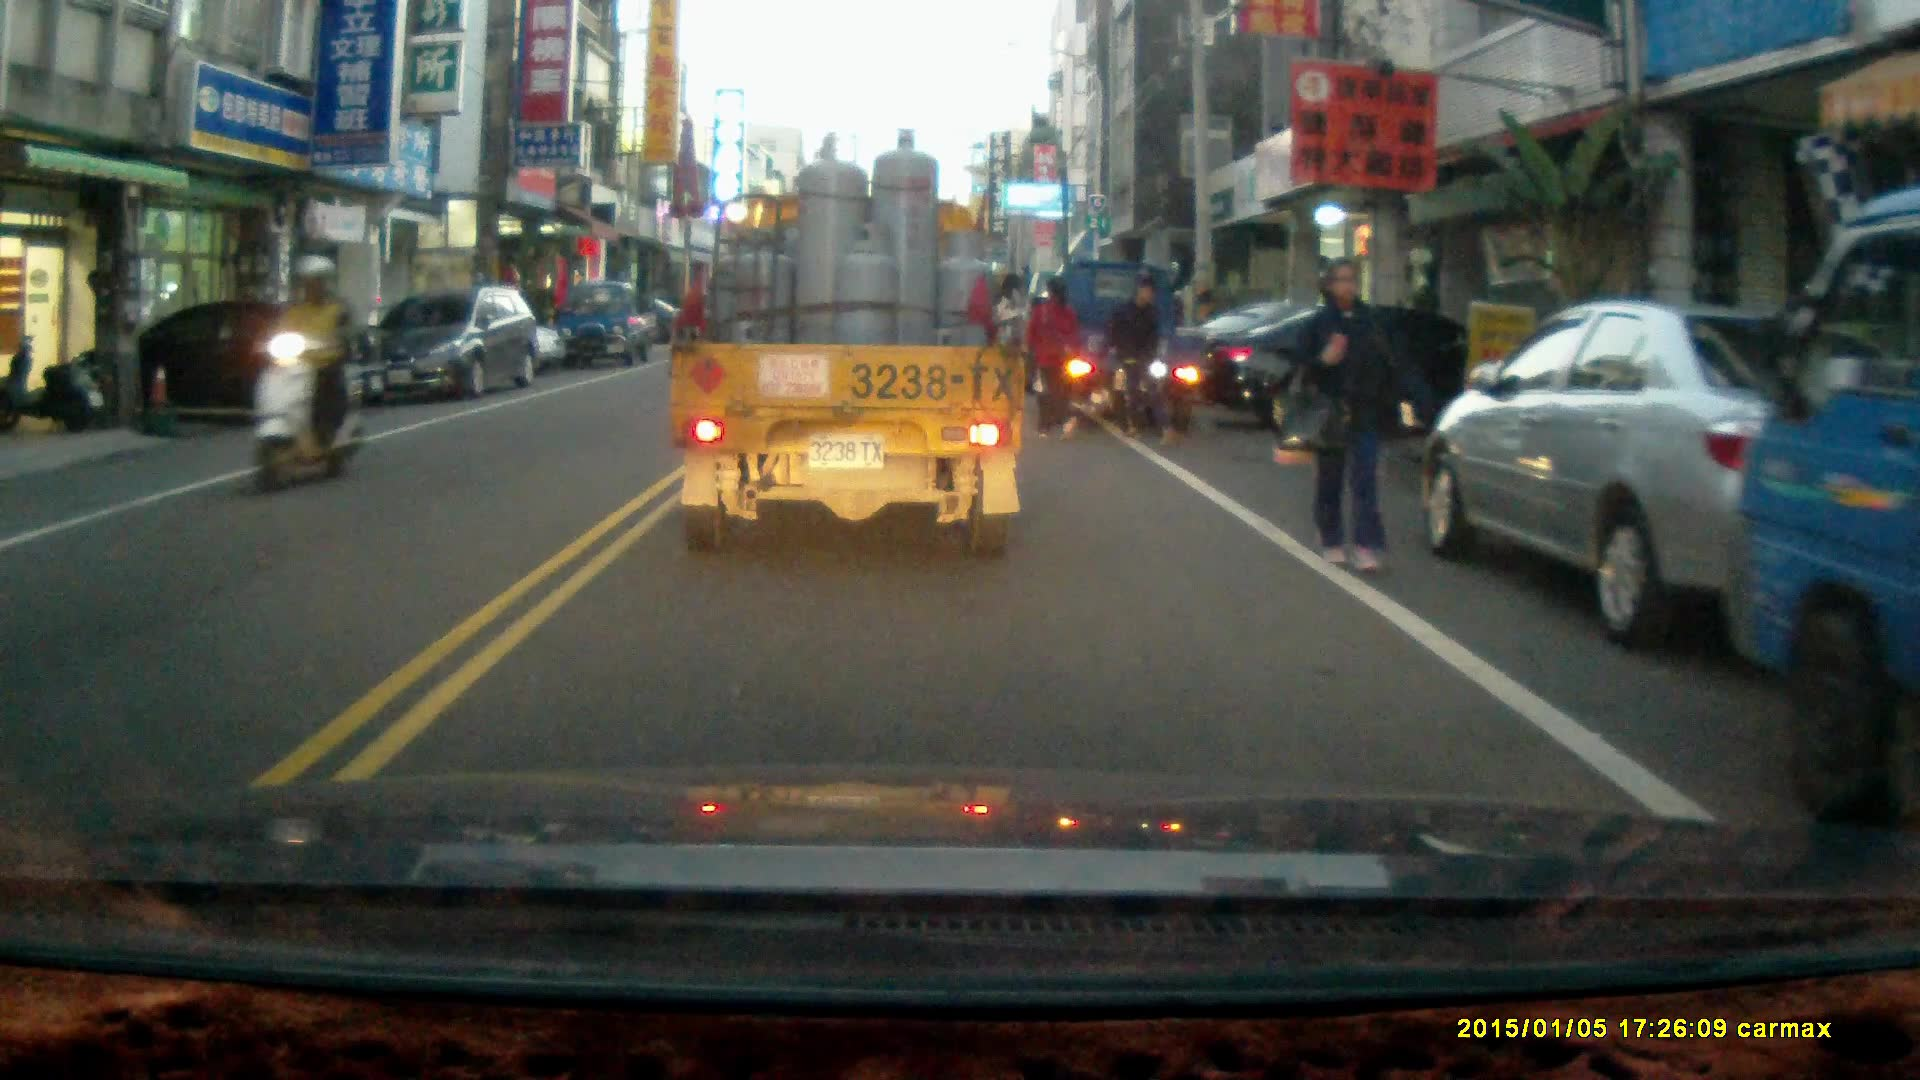pedestrian: (1292, 256, 1400, 571), (1101, 271, 1178, 445), (1022, 274, 1082, 439)
rider: (243, 253, 366, 499)
vehicle: (1426, 301, 1886, 649), (668, 126, 1031, 566), (1722, 236, 1920, 807), (1187, 297, 1515, 455), (39, 298, 383, 429), (1034, 261, 1216, 434), (367, 285, 542, 404), (557, 279, 659, 370)
